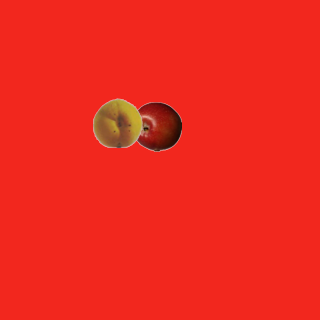Apple Braeburn: (131, 101, 181, 151)
Peach 2: (92, 97, 142, 147)
